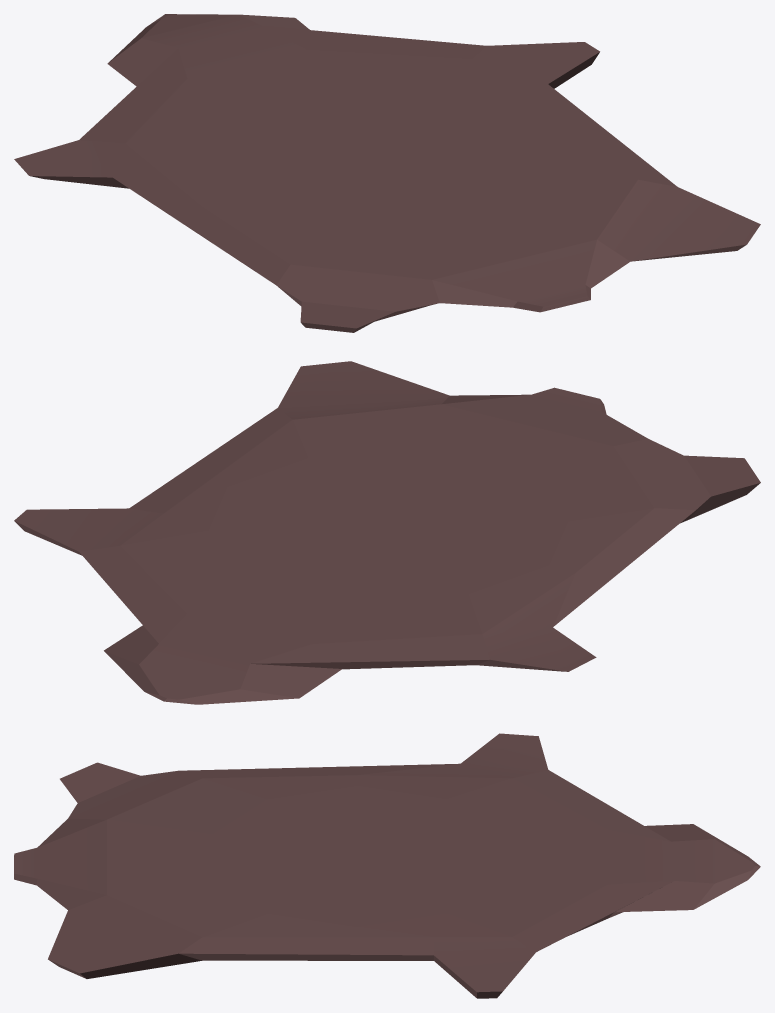
File: Animalhide.fbx
The picture shows the model from 3 angles, top to bottom: view 1: azimuth 30°, elevation 25°; view 2: azimuth 150°, elevation 25°; view 3: azimuth 270°, elevation 25°; orthographic projection. The views are drawn at different scales.
Visible parts, largest first — view 1: pSphere3; view 2: pSphere3; view 3: pSphere3.
Boxes of the visible parts, <box> form: pSphere3: <box>14,14,760,332</box>; pSphere3: <box>14,361,760,704</box>; pSphere3: <box>14,733,760,998</box>.
Size of the model in its own units: 3.14 by 0.1646 by 3.87.
